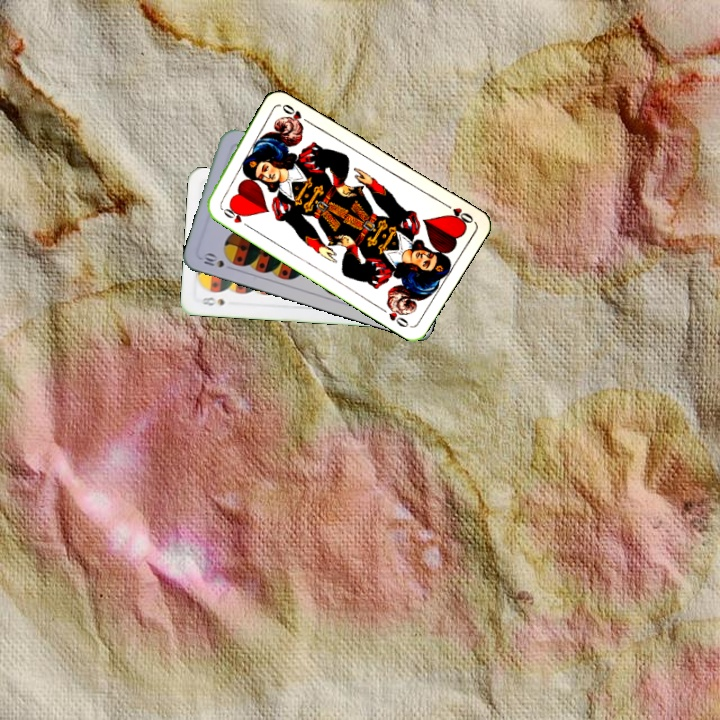HO: (439, 199, 476, 228), (215, 201, 251, 230)
S10: (199, 249, 237, 273)
S8: (197, 293, 228, 308)
